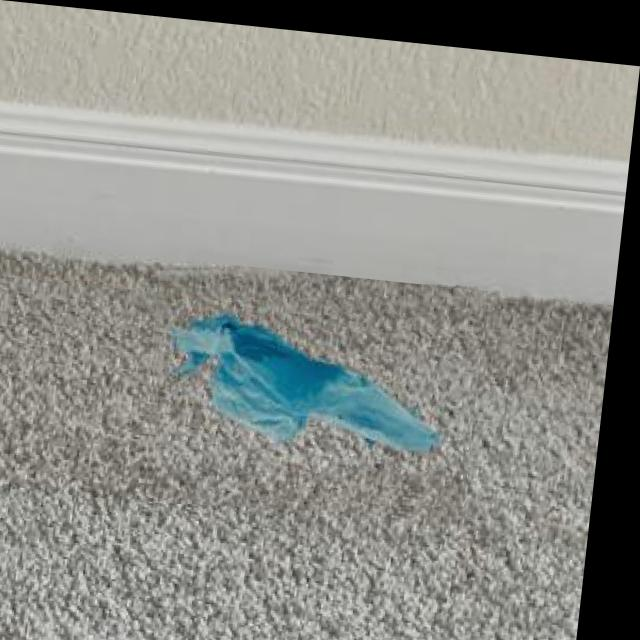litter: (147, 253, 493, 519)
